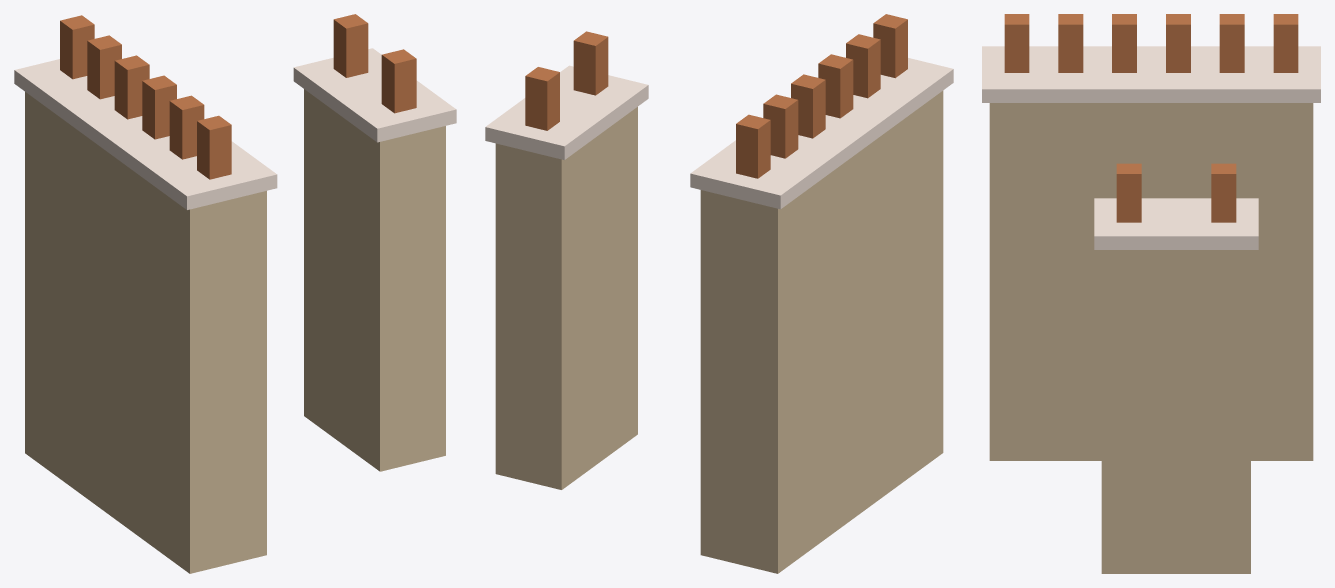
File: roofprop.fbx
3 renders of one model, left to right at view 1: azimuth 30°, elevation 25°; view 2: azimuth 150°, elevation 25°; view 3: azimuth 270°, elevation 25°, orthographic. The views are drawn at different scales.
Visible parts, largest first — view 1: a2006/500/roofprop; view 2: a2006/500/roofprop; view 3: a2006/500/roofprop.
Boxes of the visible parts, <box> form: a2006/500/roofprop: <box>14,14,456,573</box>; a2006/500/roofprop: <box>485,14,953,573</box>; a2006/500/roofprop: <box>982,14,1320,573</box>.
Size of the model in its own units: 2.97 by 3.75 by 2.72.
